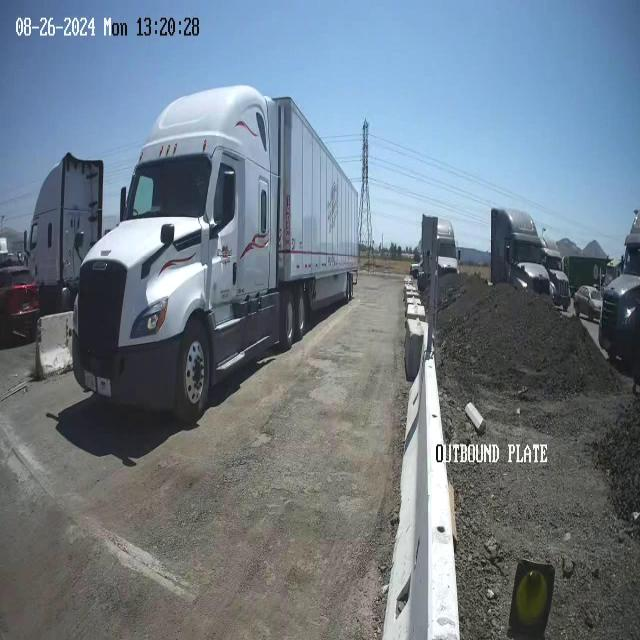CONTAINER: (272, 85, 360, 283)
